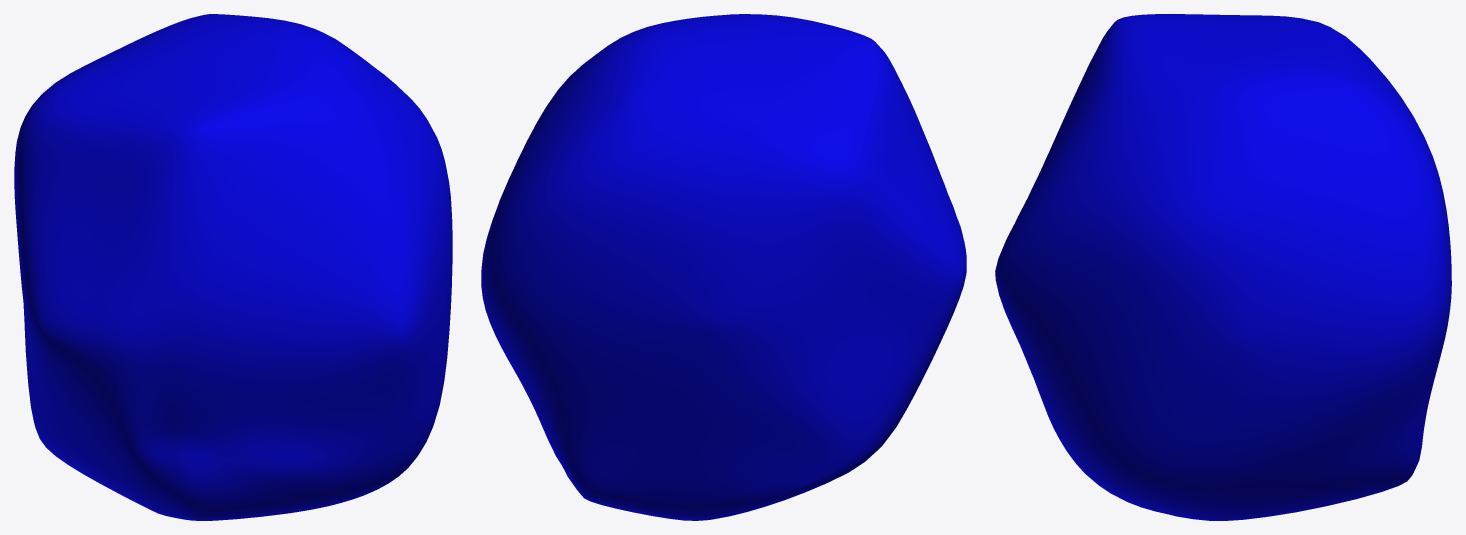
The model's file is Game2Stone4.fbx.
The picture shows the model from 3 angles, left to right: view 1: azimuth 30°, elevation 25°; view 2: azimuth 150°, elevation 25°; view 3: azimuth 270°, elevation 25°; orthographic projection. The views are drawn at different scales.
Parts seen in each view (by area): view 1: Stone4; view 2: Stone4; view 3: Stone4.
Boxes of the visible parts, x1=… form: Stone4: x1=14, y1=14, x2=452, y2=520; Stone4: x1=481, y1=14, x2=966, y2=520; Stone4: x1=995, y1=14, x2=1451, y2=520.
Size of the model in its own units: 2 by 2.04 by 1.95.
